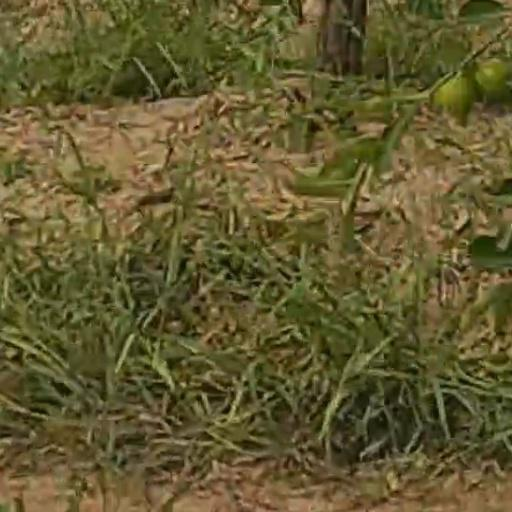acerola: (476, 55, 511, 101), (439, 76, 471, 113)
